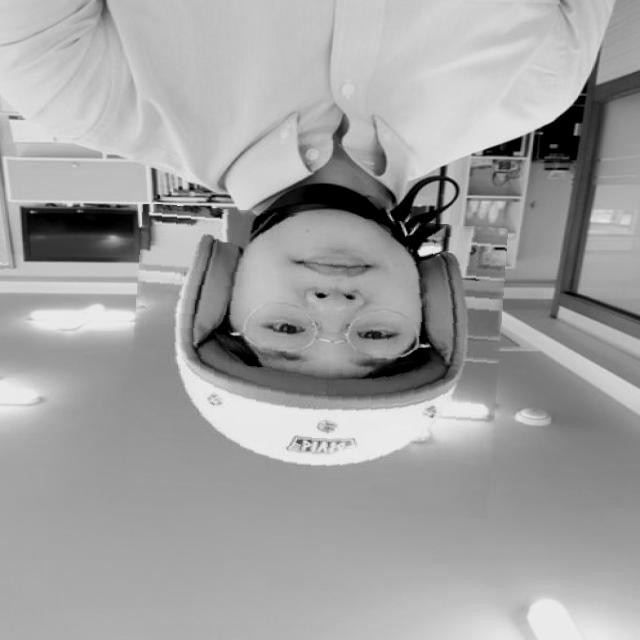helmet: (127, 210, 503, 513)
